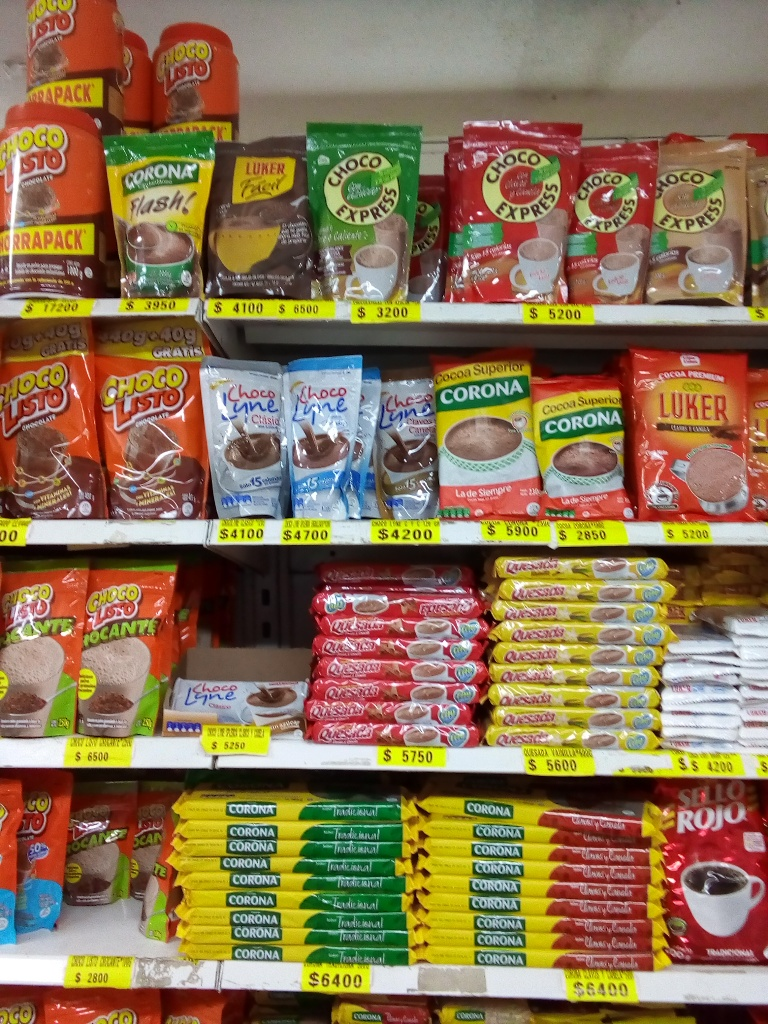COL0170102DYP10000: (53, 780, 134, 906)
COL0170102DYP25000: (80, 553, 181, 730)
COL0170103TRR00100: (1, 106, 122, 298)
COL0170104DYP20000: (13, 776, 61, 947)
